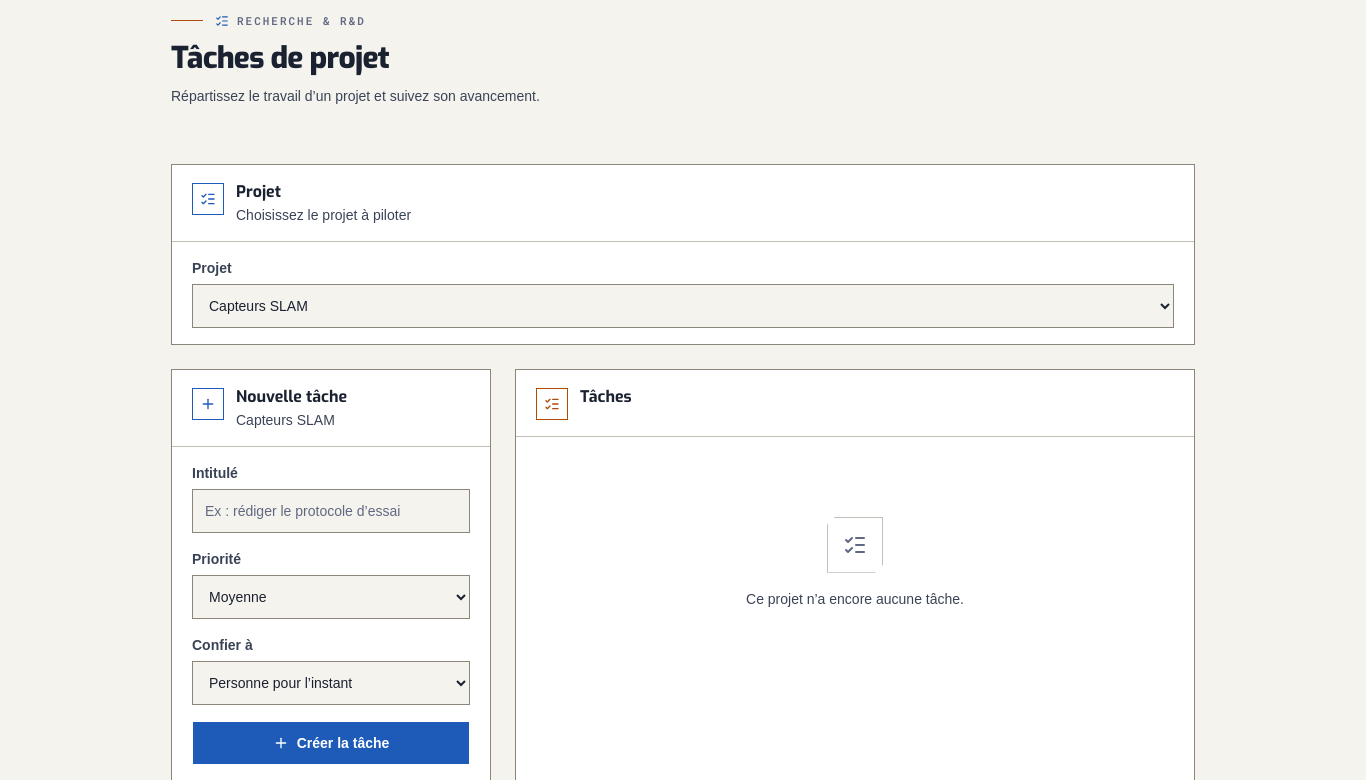
Scenario: Tâches — la création dit la vérité › n’annonce pas de succès quand le serveur refuse
The image size is (1366, 780).
Type "Nouvelle tâche" into the field labelled "Intitulé".
click(331, 511); type("Nouvelle tâche")  # box [192,489,470,533]
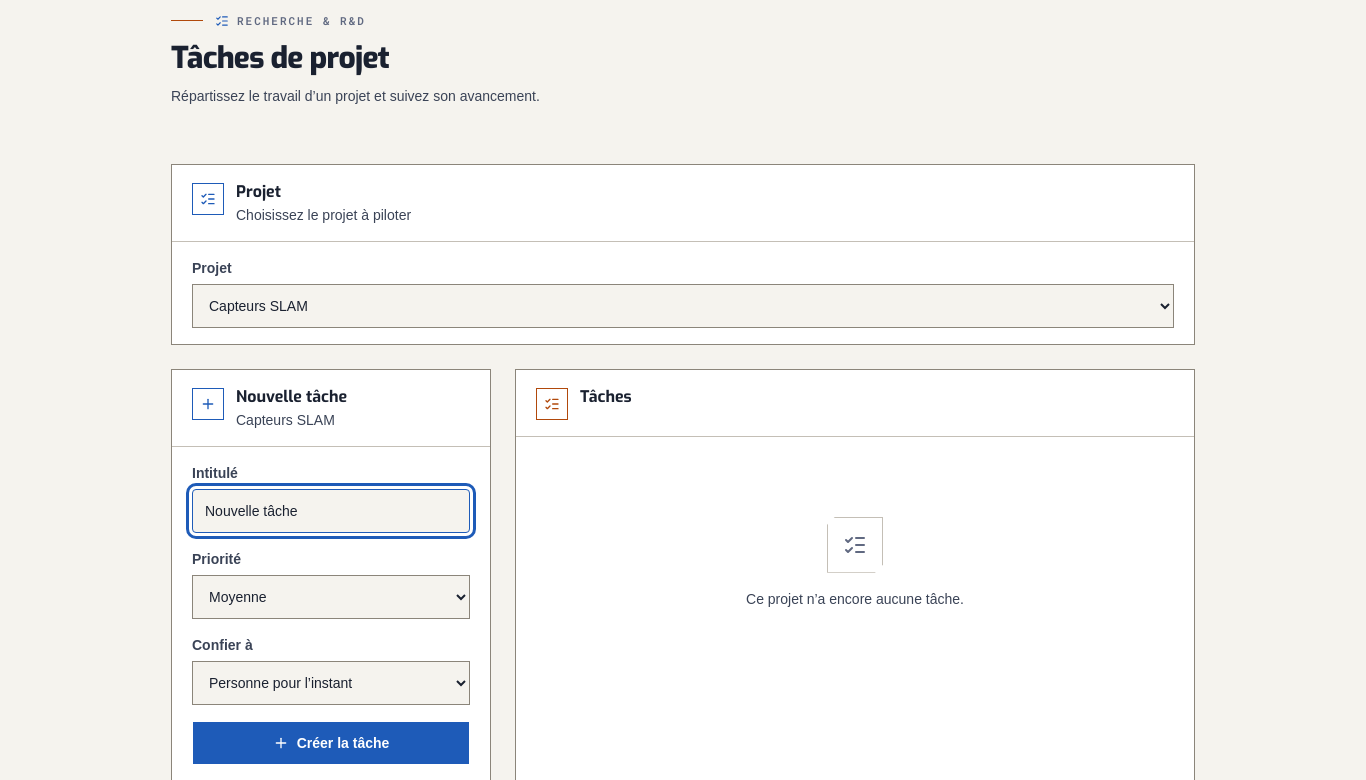
Click the button "Créer la tâche".
click(331, 743)  # box [192,721,470,765]
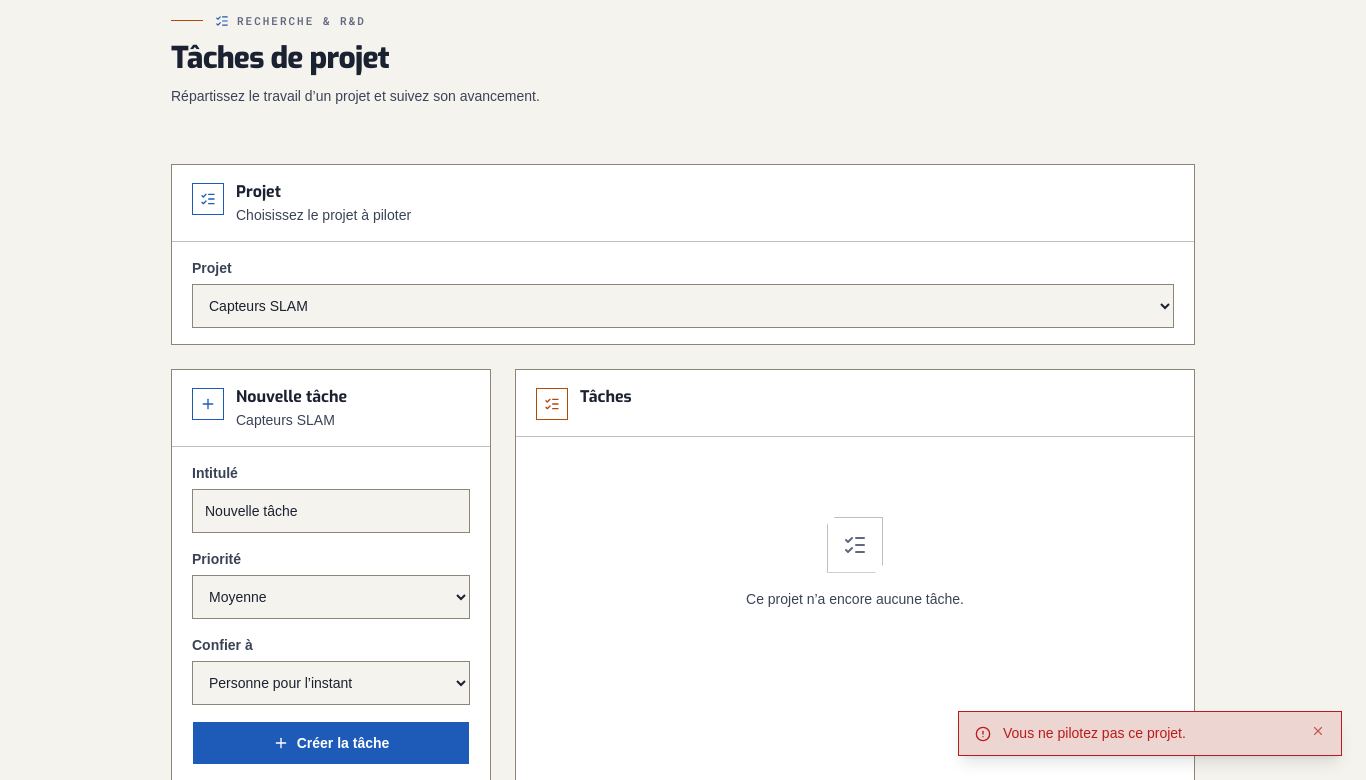
Check: the text "Vous ne pilotez pas ce projet." is shown, box [1003,725,1186,741]
